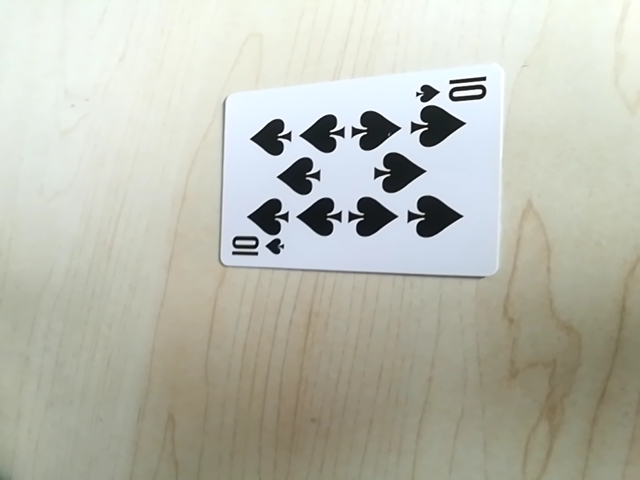ht 10: (415, 71, 494, 107), (227, 234, 286, 264)
